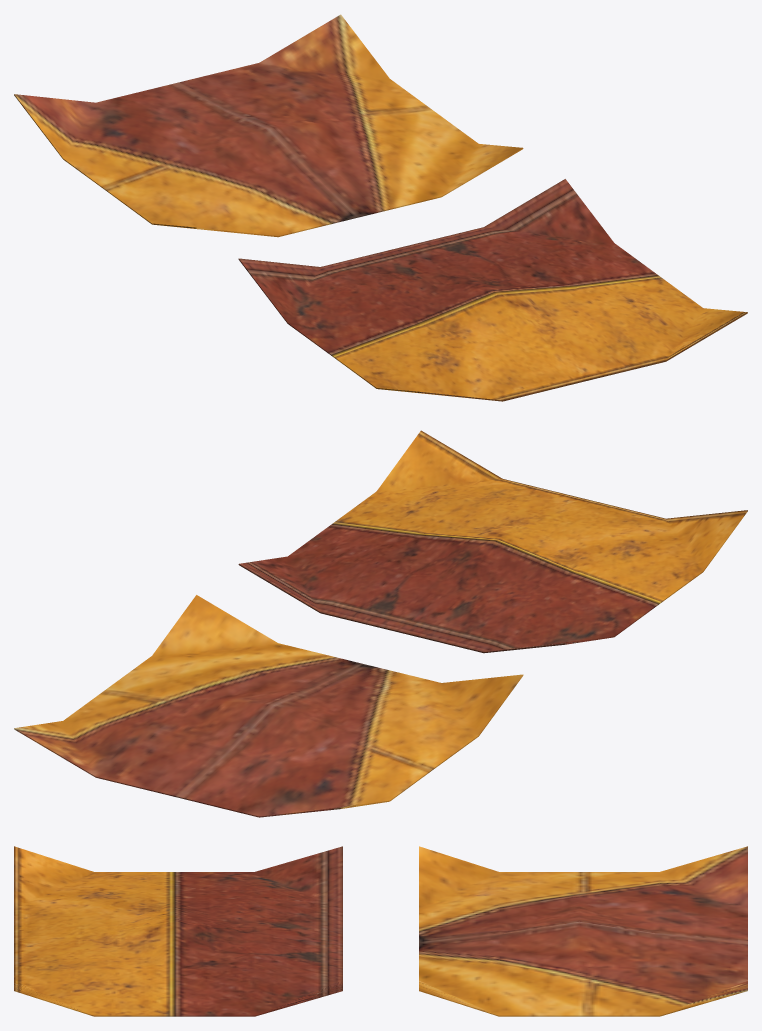
The model's file is cc_tent.dae.
3 renders of one model, top to bottom at view 1: azimuth 30°, elevation 25°; view 2: azimuth 150°, elevation 25°; view 3: azimuth 270°, elevation 25°, orthographic. The views are drawn at different scales.
Parts seen in each view (by area): view 1: mammoth.001; view 2: mammoth.001; view 3: mammoth.001.
Part boxes in pixels (x1=…): mammoth.001: x1=14, y1=14, x2=747, y2=401; mammoth.001: x1=14, y1=430, x2=747, y2=817; mammoth.001: x1=14, y1=846, x2=747, y2=1016.
Size of the model in its own units: 9.33 by 20.11 by 0.8066.
